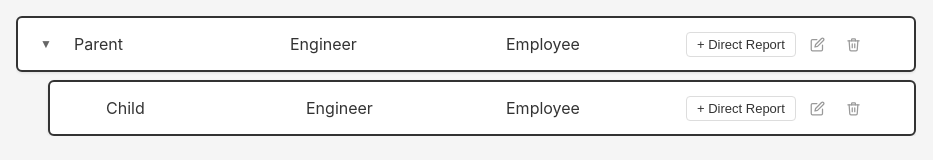
ListView › Expand/Collapse › toggles child visibility when expand button clicked
Expected: the number of elements with class "tree-row" is 2, [16,16,916,72]; [48,80,916,136]
Note: Click to collapse
Click the button with class "expand-btn".
click(46, 44)  # box [34,32,58,56]
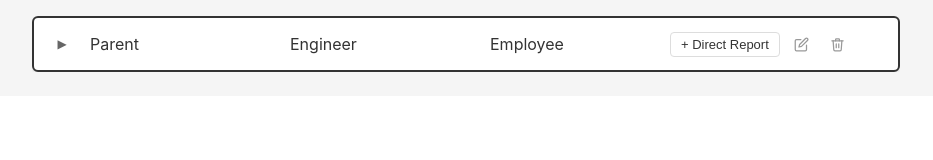
Now the number of elements with class "tree-row" is 1, box [32,16,900,72]
